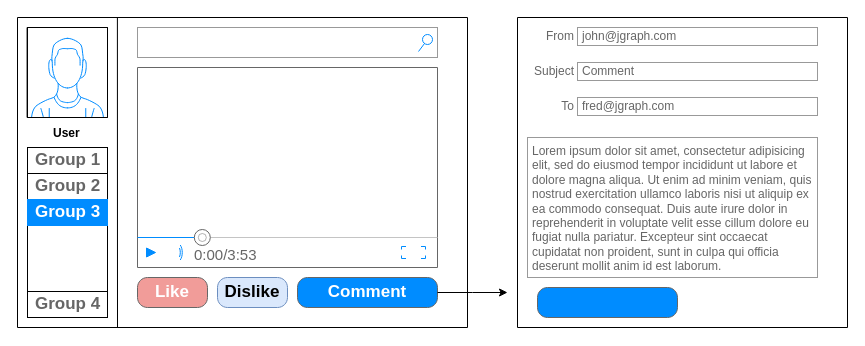
This 865x346 diagram has some shape labels left out. Here are the shapes that lost their labels. From the top down, the centre of each, then its label:
(287,42): Search
(607,302): Sent comment
